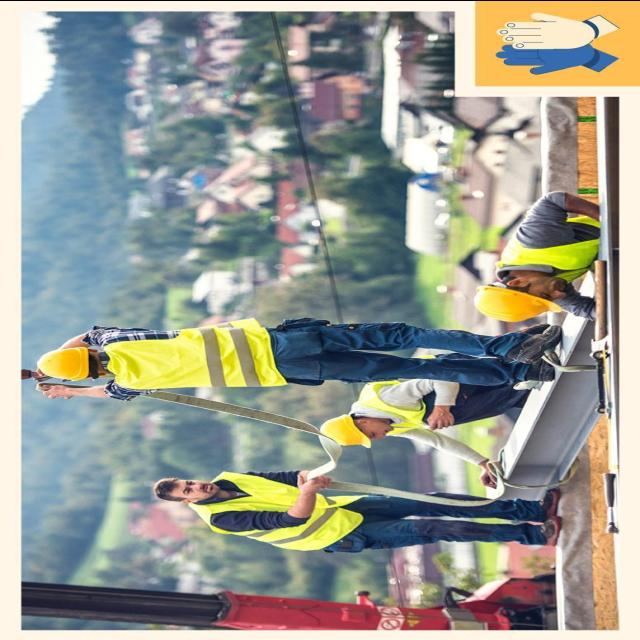helmet: (461, 280, 563, 326), (29, 341, 99, 385), (310, 408, 374, 449)
jacket: (194, 464, 374, 555), (102, 310, 292, 392)
